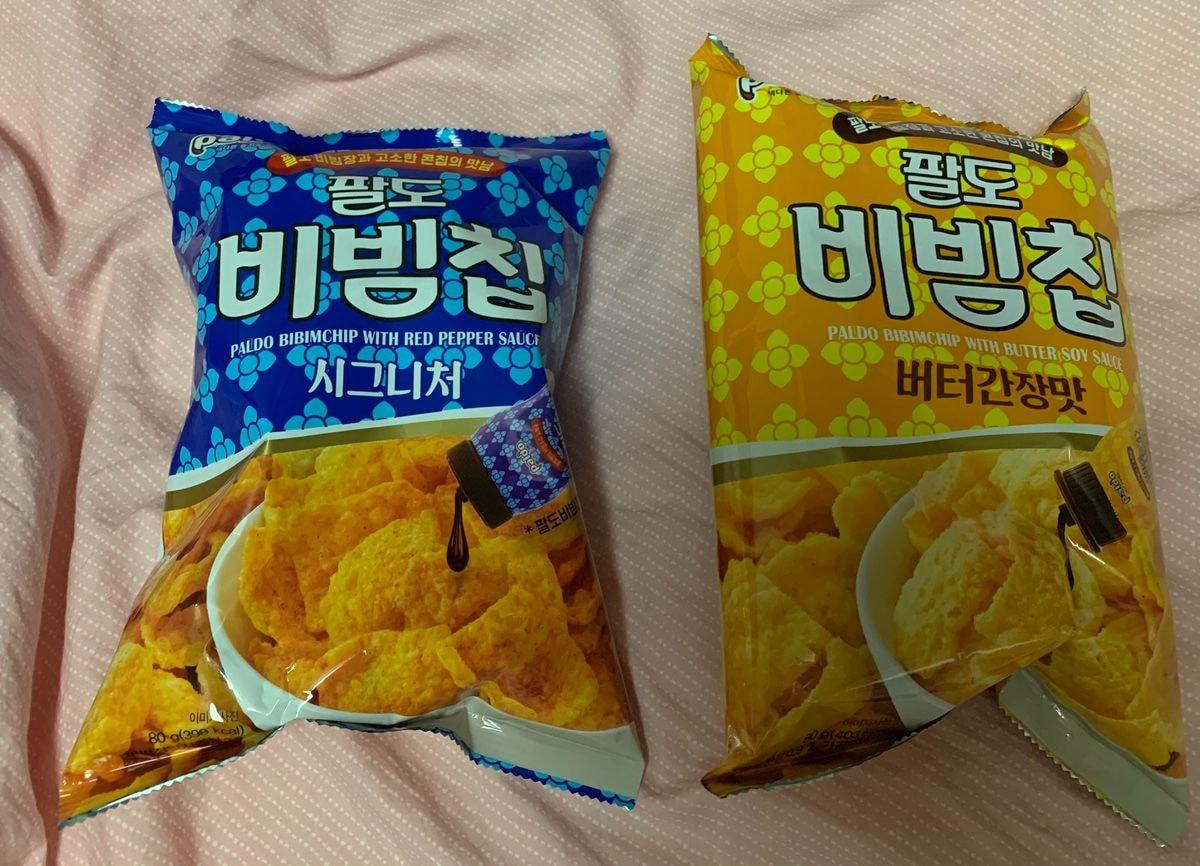snack: (54, 94, 648, 833), (690, 29, 1193, 850)
